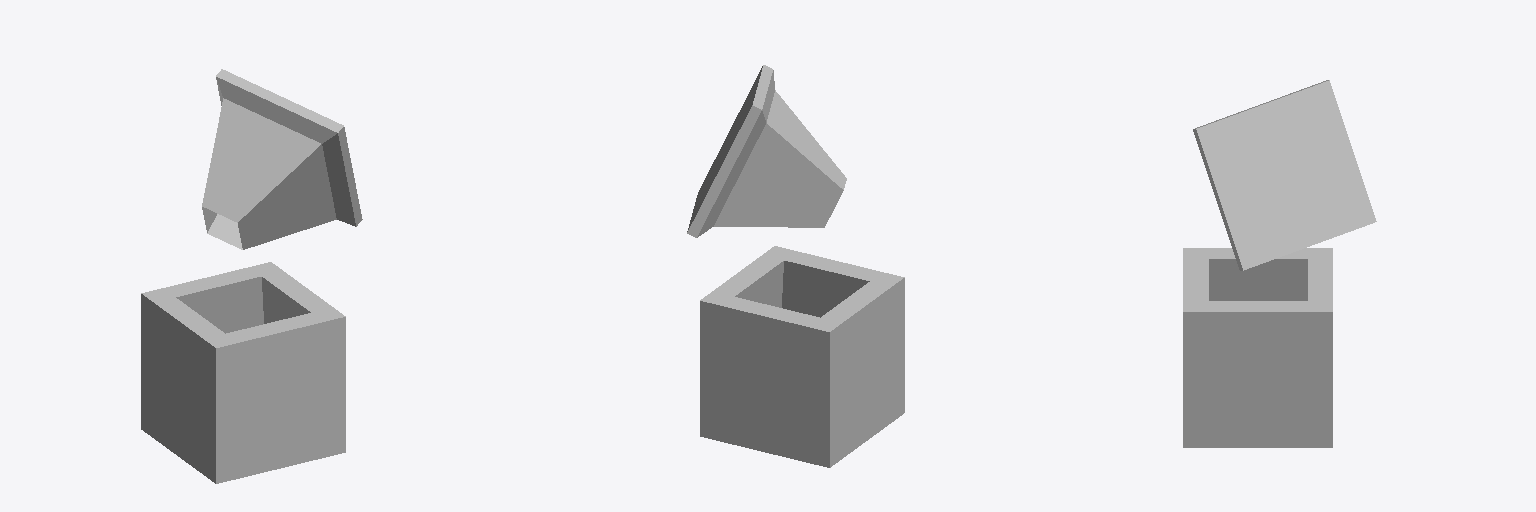
Rendered from AnimatedBox_000060.obj.
3 views of the same model, side by side, from view 1: azimuth 30°, elevation 25°; view 2: azimuth 150°, elevation 25°; view 3: azimuth 270°, elevation 25° (orthographic).
Parts seen in each view (by area): view 1: Cube, Cube.001; view 2: Cube, Cube.001; view 3: Cube, Cube.001.
Boxes of the visible parts, box(x1,y1,x2,y2) form: Cube: box(141, 262, 345, 483); Cube.001: box(202, 69, 362, 249); Cube: box(700, 246, 904, 467); Cube.001: box(687, 65, 846, 237); Cube: box(1183, 248, 1332, 447); Cube.001: box(1193, 80, 1376, 270).
Size of the model in its own units: 2.72 by 5.04 by 2.58.